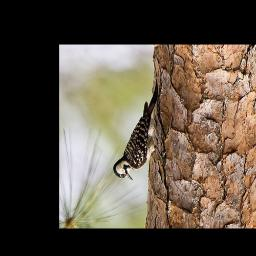Woodpecker: (113, 79, 167, 180)
